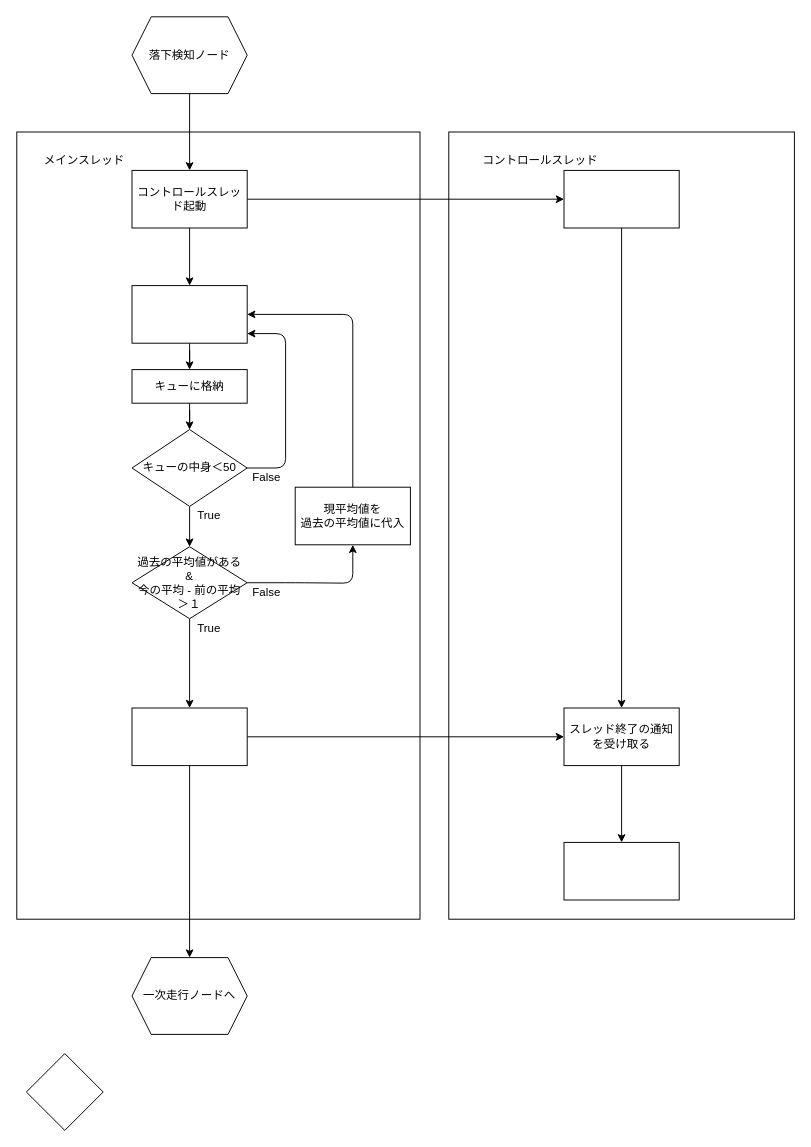
The diagram is 811 pixels wide and 1147 high, and some of its shapes have lost their labels. Here are the shapes that lost their labels. From the top down, the box of each, then its label:
(563, 169, 679, 228): 前進
(131, 285, 247, 343): 加速度センサから 機体x軸方向への 加速度を取得
(131, 707, 247, 766): コントロールスレッドに終了を通知
(563, 841, 679, 900): コントロールスレッド終了
